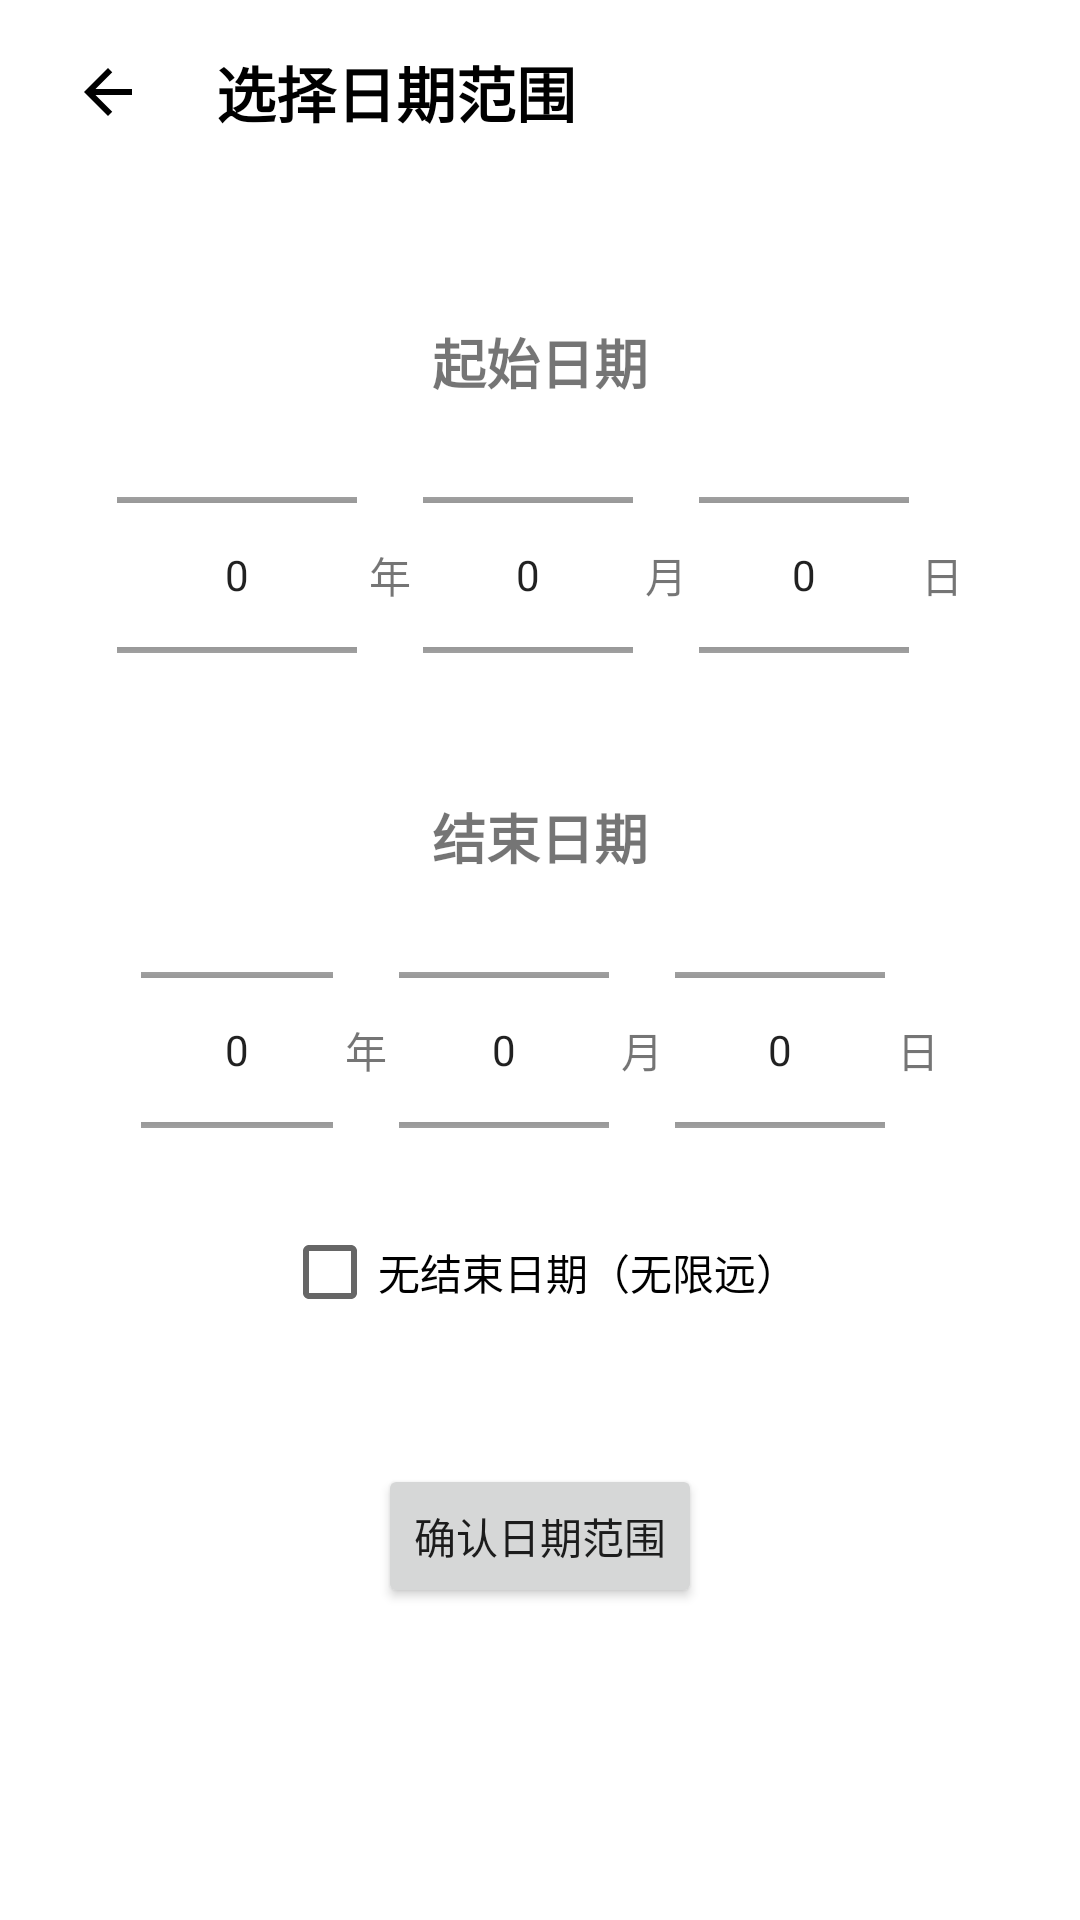

Icon bounding boxes for this 1080 x 1920 phone screenshot, format (x1, y1, x2, y2):
返回: (84, 68, 132, 116)
